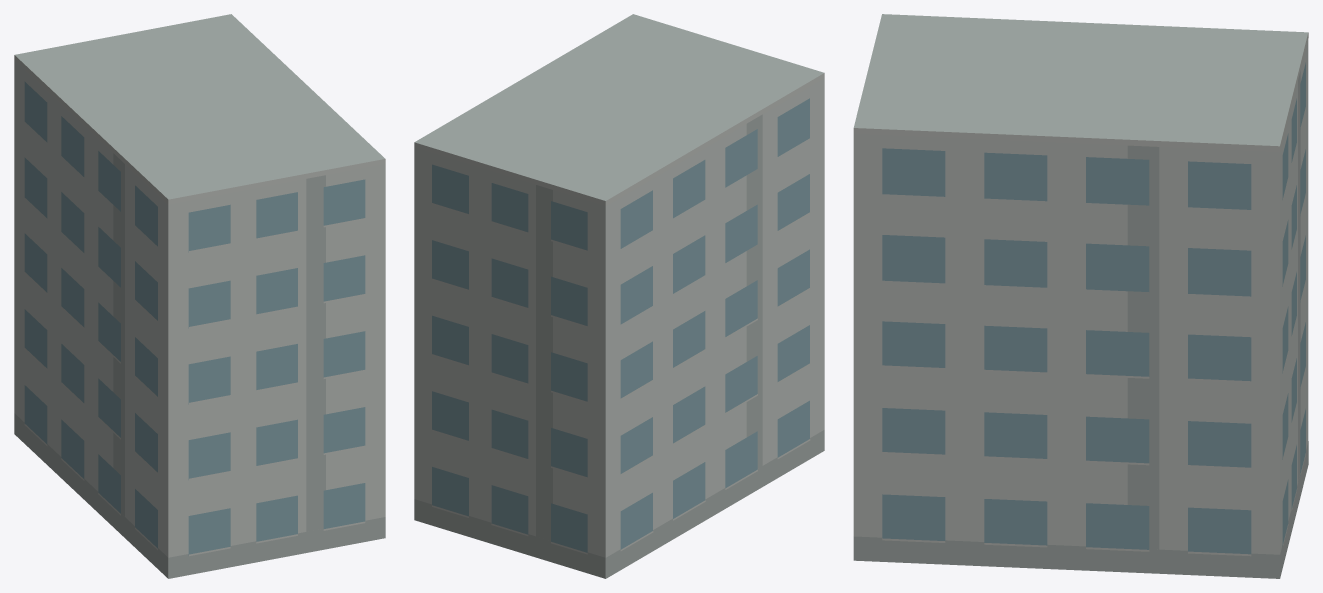
File: survey-upis-32572383.glb
3 renders of one model, left to right at view 1: azimuth 30°, elevation 25°; view 2: azimuth 150°, elevation 25°; view 3: azimuth 270°, elevation 25°, orthographic. The views are drawn at different scales.
Visible parts, largest first — view 1: survey-upis-32572383.tmp; view 2: survey-upis-32572383.tmp; view 3: survey-upis-32572383.tmp.
Part boxes in pixels (x1,y1,x2,y2): survey-upis-32572383.tmp: (14,14,385,578); survey-upis-32572383.tmp: (414,14,824,578); survey-upis-32572383.tmp: (853,14,1308,578).
Size of the model in its own units: 11.78 by 17.97 by 17.13.
